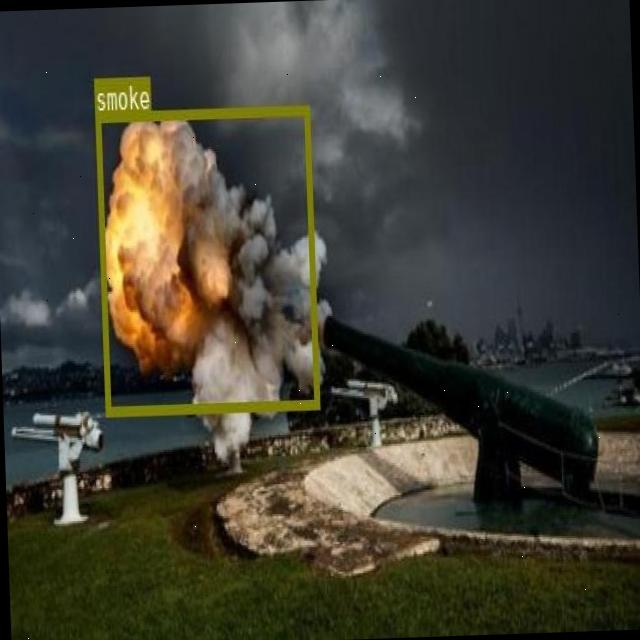smoke: (95, 104, 319, 414)
